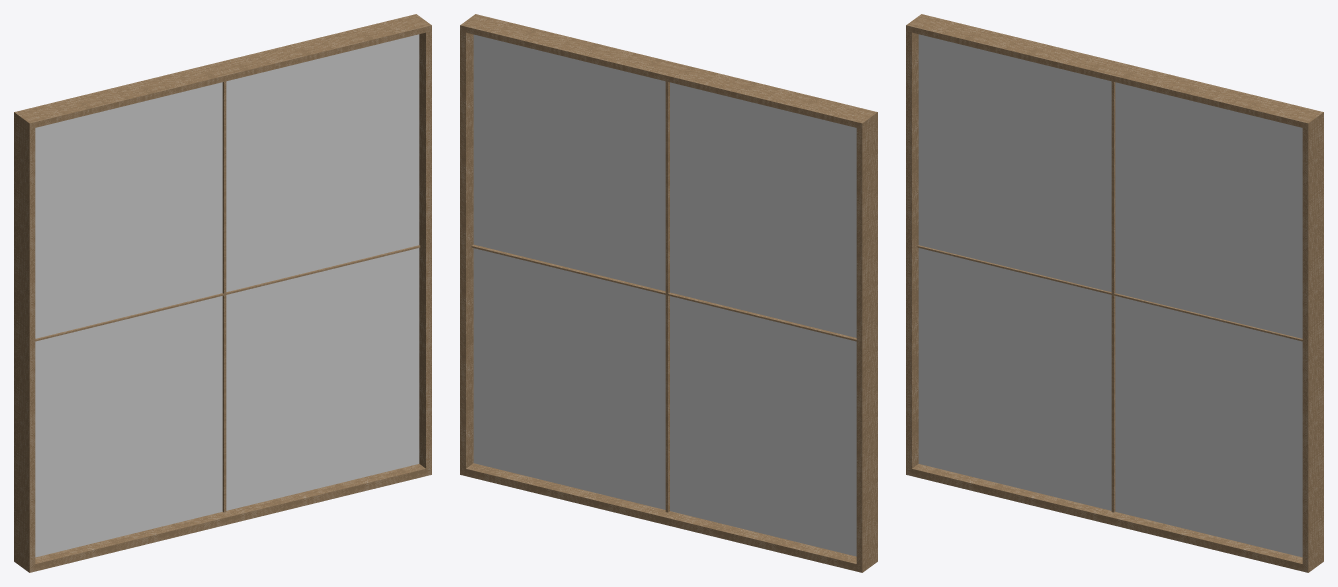
Rendered from oknoDom.fbx.
3 views of the same model, side by side, from view 1: azimuth 30°, elevation 25°; view 2: azimuth 150°, elevation 25°; view 3: azimuth 330°, elevation 25° (orthographic).
Visible parts, largest first — view 1: Window; view 2: Window; view 3: Window.
Part boxes in pixels (x1,y1,x2,y2): Window: (14, 14, 431, 572); Window: (460, 14, 877, 572); Window: (906, 14, 1323, 572).
Size of the model in its own units: 142 by 152 by 9.45.
